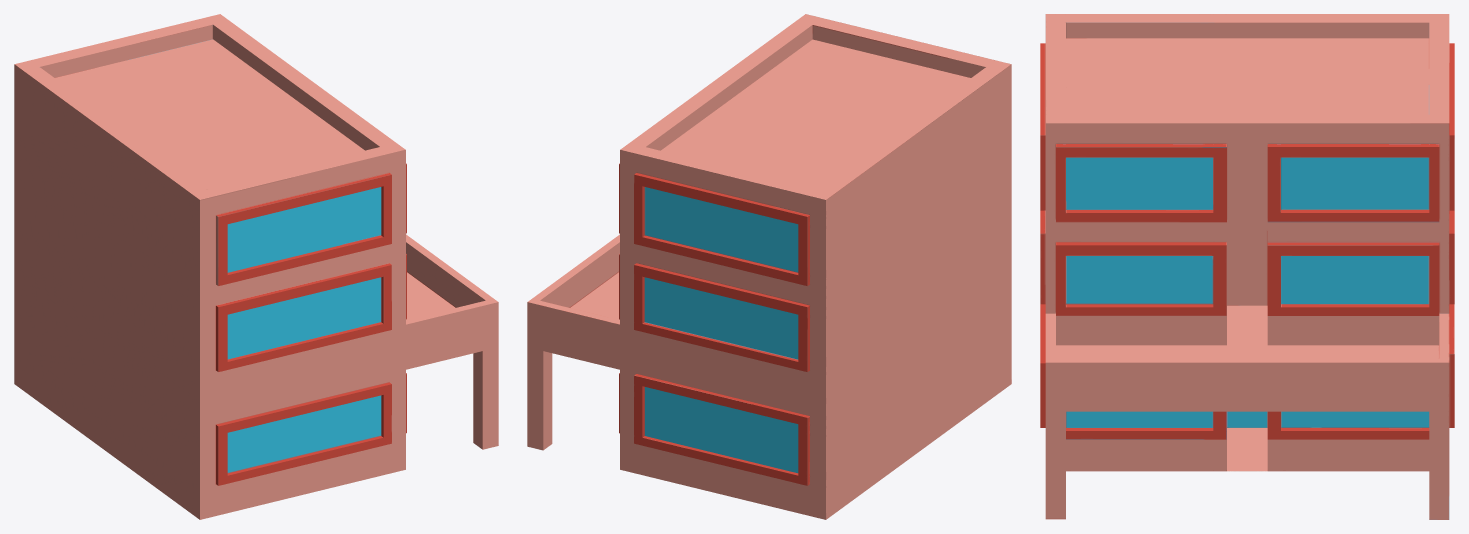
The model's file is Maroon Buildingg.fbx.
3 views of the same model, side by side, from view 1: azimuth 30°, elevation 25°; view 2: azimuth 150°, elevation 25°; view 3: azimuth 270°, elevation 25° (orthographic). The views are drawn at different scales.
Visible parts, largest first — view 1: Fenk.001; view 2: Fenk.001; view 3: Fenk.001.
Boxes of the visible parts, box(x1,y1,x2,y2) form: Fenk.001: box(14, 14, 498, 519); Fenk.001: box(527, 14, 1011, 519); Fenk.001: box(1040, 14, 1454, 519).
Size of the model in its own units: 2047 by 2096 by 2261.
Materials: 1 (1 with a texture image).
